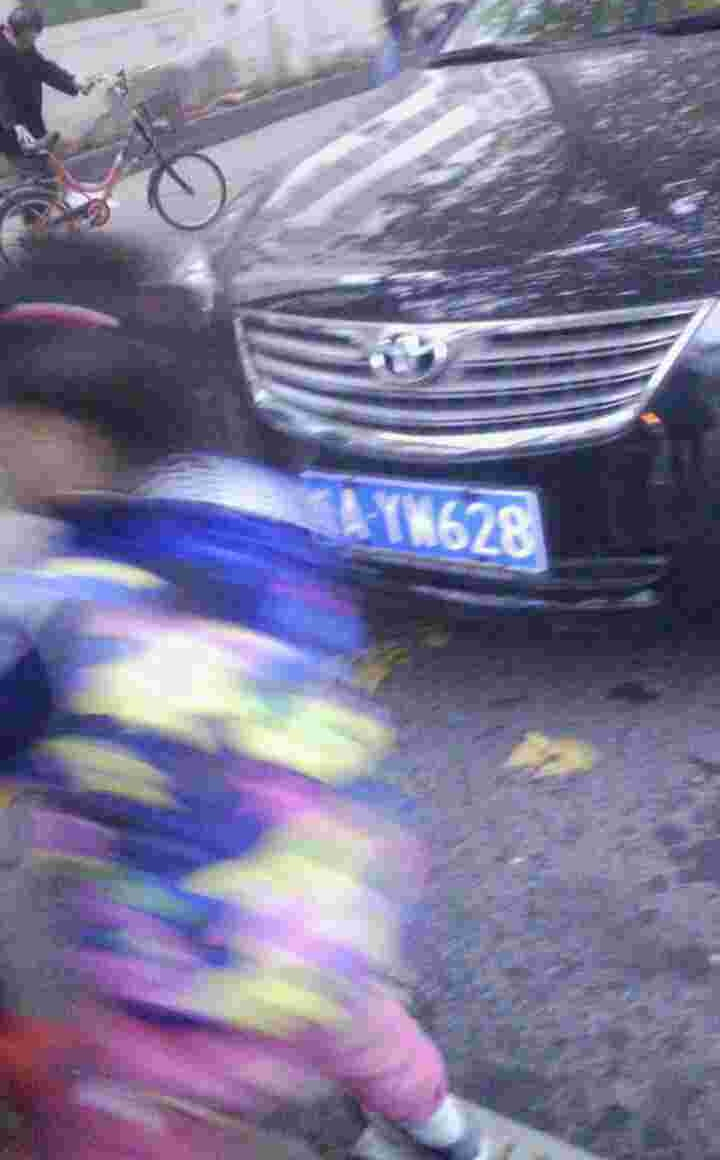license_plate: (277, 479, 553, 575)
